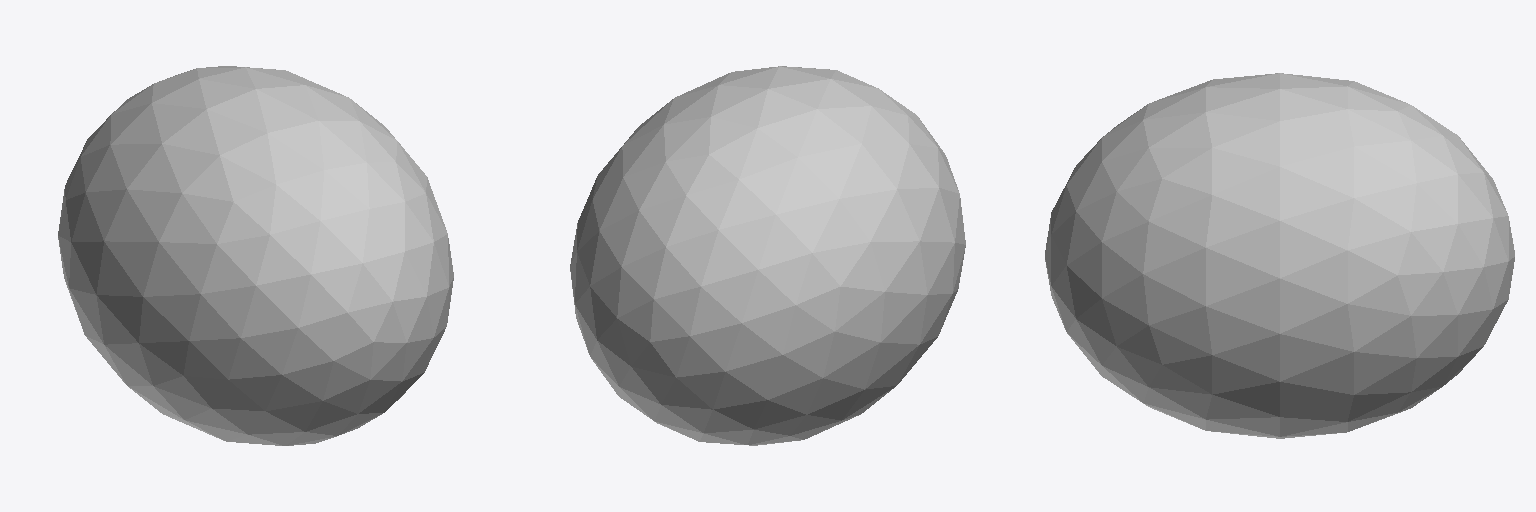
The model's file is truc.obj.
3 views of the same model, side by side, from view 1: azimuth 30°, elevation 25°; view 2: azimuth 150°, elevation 25°; view 3: azimuth 270°, elevation 25° (orthographic).
Visible parts, largest first — view 1: ungrouped; view 2: ungrouped; view 3: ungrouped.
Part boxes in pixels (left/top/right/bottom): ungrouped: left=58, top=66, right=453, bottom=445; ungrouped: left=570, top=66, right=965, bottom=445; ungrouped: left=1045, top=73, right=1514, bottom=438.
Bounding box in the file's own units: 12.84 × 12.84 × 16.4.